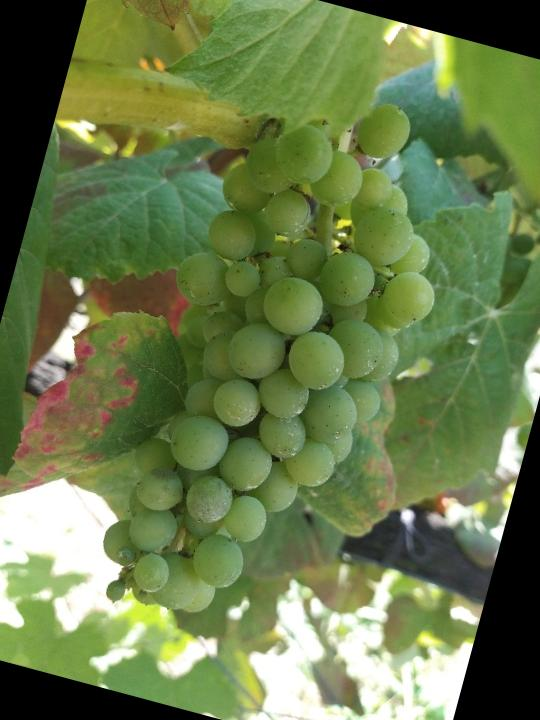grape: (86, 55, 485, 666)
